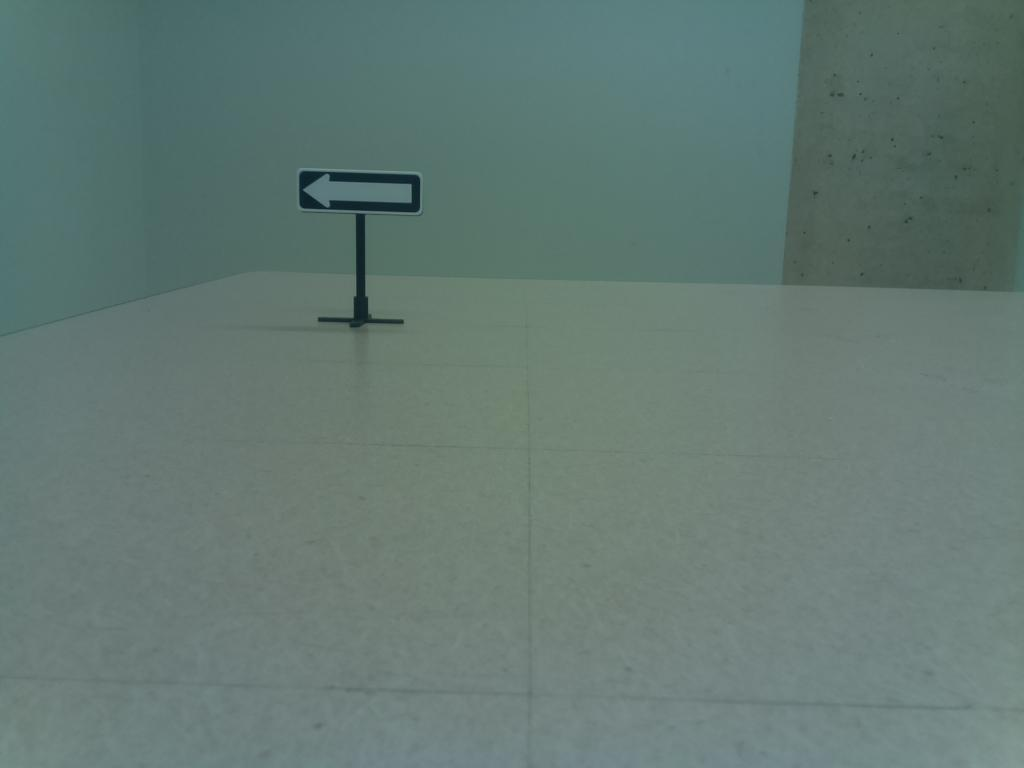sign_oneway_left: (289, 162, 429, 224)
